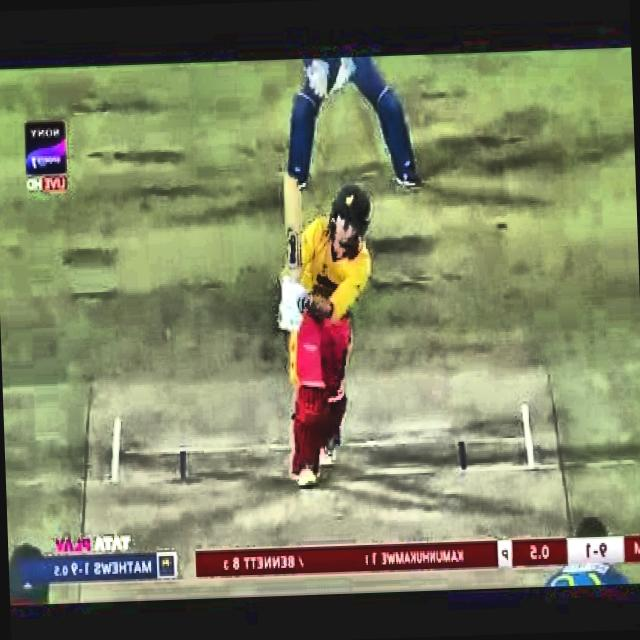Left-stump: (332, 424, 342, 446)
